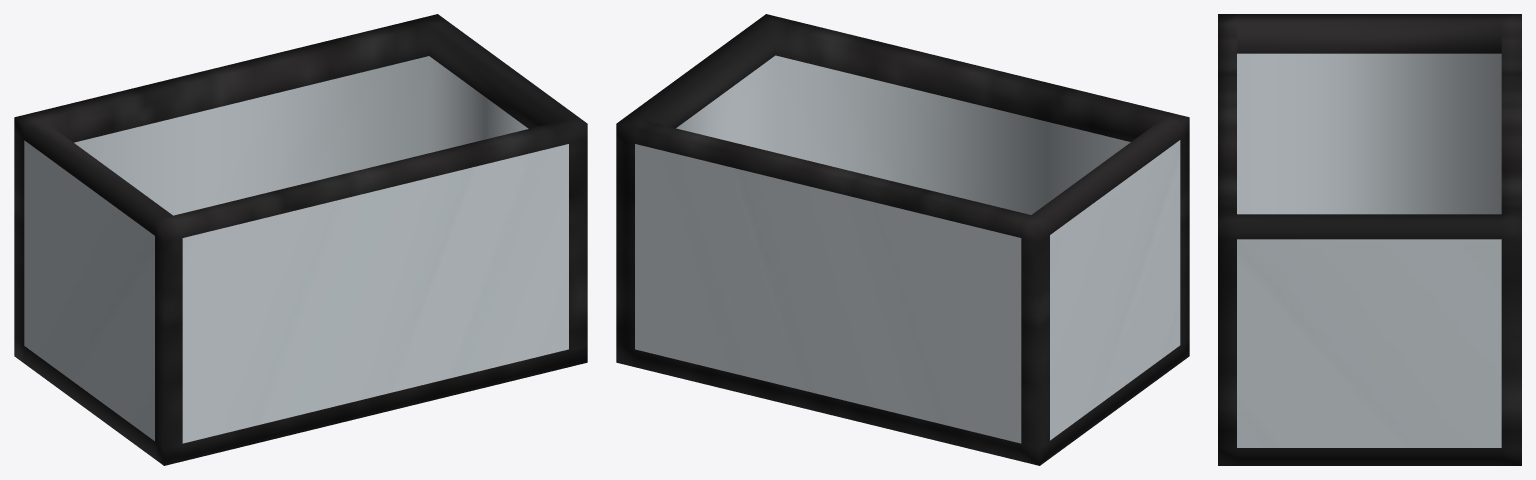
File: WorldItem_HCFishTank_Empty.fbx
3 views of the same model, side by side, from view 1: azimuth 30°, elevation 25°; view 2: azimuth 150°, elevation 25°; view 3: azimuth 270°, elevation 25° (orthographic).
Visible parts, largest first — view 1: FishTankEmpty; view 2: FishTankEmpty; view 3: FishTankEmpty.
Part boxes in pixels (x1,y1,x2,y2): FishTankEmpty: (14,14,587,465); FishTankEmpty: (616,14,1189,465); FishTankEmpty: (1218,14,1521,465).
Size of the model in its own units: 0.4345 by 0.2343 by 0.2663.
